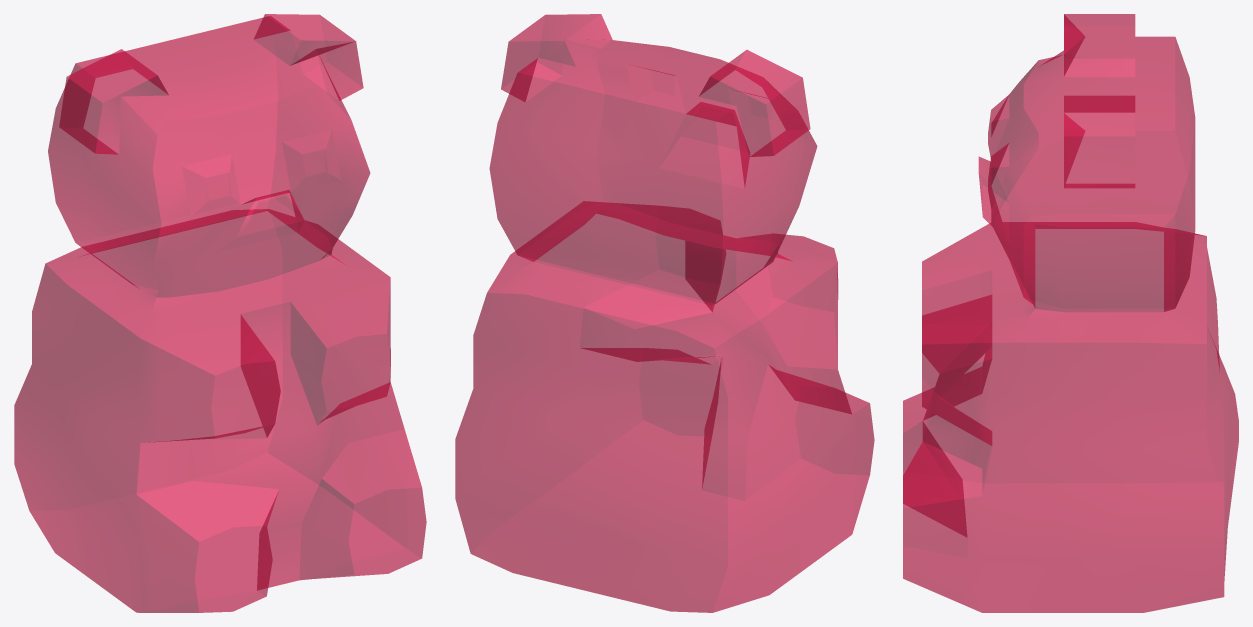
Rendered from gummyBearModel.fbx.
The picture shows the model from 3 angles, left to right: view 1: azimuth 30°, elevation 25°; view 2: azimuth 150°, elevation 25°; view 3: azimuth 270°, elevation 25°; orthographic projection. The views are drawn at different scales.
Visible parts, largest first — view 1: pCube1; view 2: pCube1; view 3: pCube1.
Part boxes in pixels (left/top/right/bottom): pCube1: left=14, top=14, right=426, bottom=612; pCube1: left=455, top=14, right=874, bottom=612; pCube1: left=903, top=14, right=1238, bottom=612.
Bounding box in the file's own units: 1.16 × 1.88 × 1.17.
